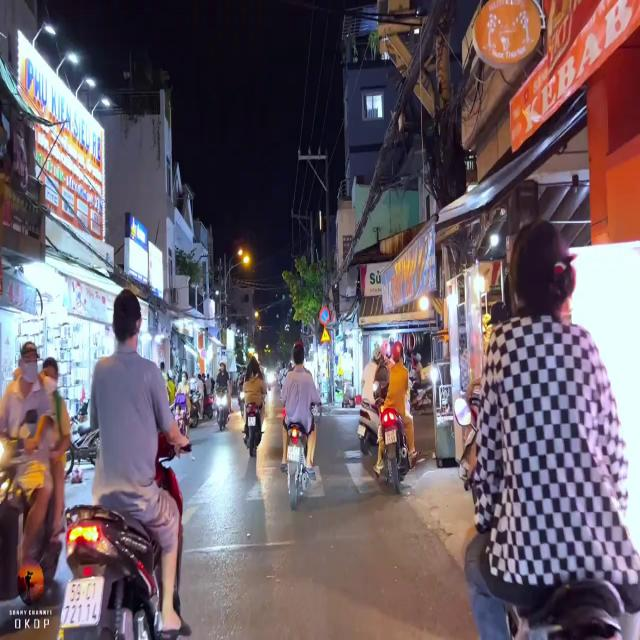bien_trang: (60, 574, 106, 630)
